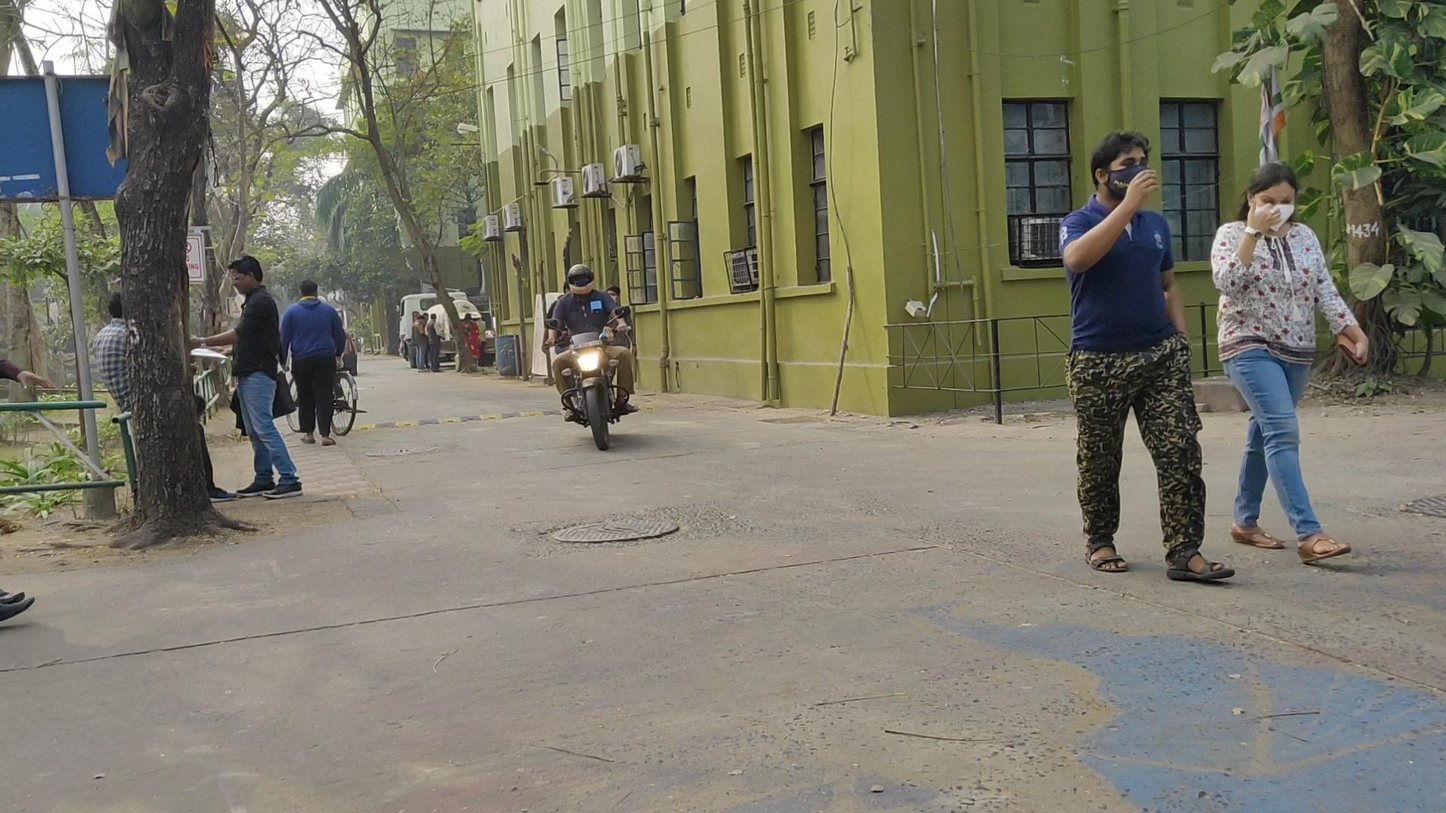bike: (541, 263, 639, 451)
truck: (398, 291, 482, 366)
